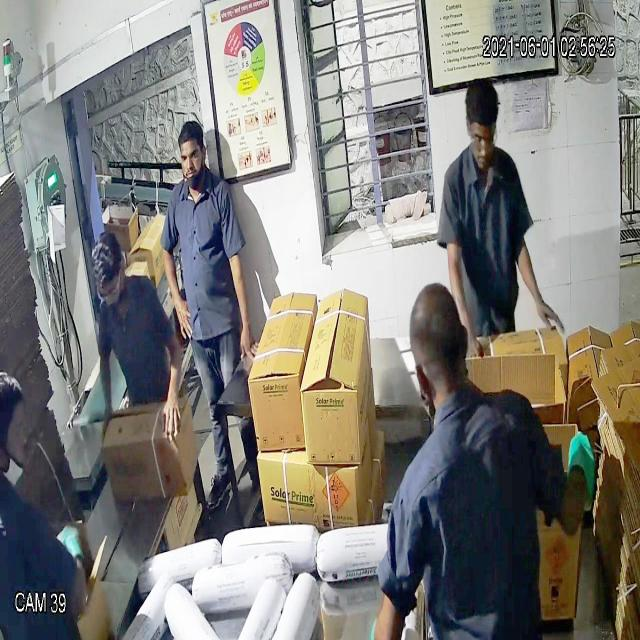glasses: (466, 119, 500, 154)
